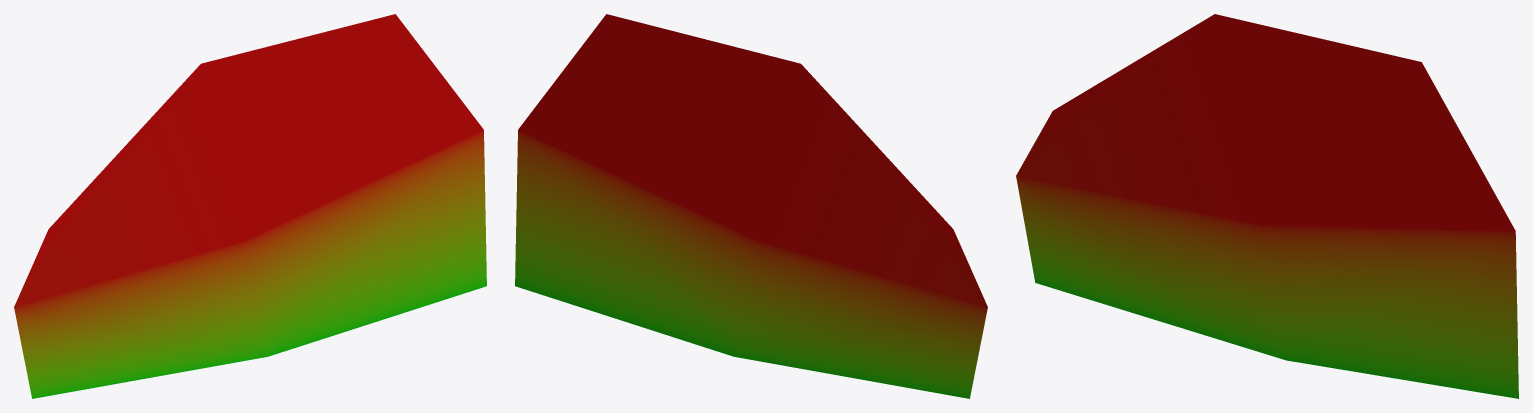
The model's file is Wild Grass_LOD4_Var4_vdilbaiia.fbx.
The picture shows the model from 3 angles, left to right: view 1: azimuth 30°, elevation 25°; view 2: azimuth 150°, elevation 25°; view 3: azimuth 330°, elevation 25°; orthographic projection. The views are drawn at different scales.
Visible parts, largest first — view 1: _gcii_Var4_LOD4; view 2: _gcii_Var4_LOD4; view 3: _gcii_Var4_LOD4.
Boxes of the visible parts, box(x1,y1,x2,y2) form: _gcii_Var4_LOD4: box(14, 14, 486, 398); _gcii_Var4_LOD4: box(515, 14, 987, 398); _gcii_Var4_LOD4: box(1016, 14, 1518, 398).
Bounding box in the file's own units: 106 × 66.99 × 7.99e-06.
